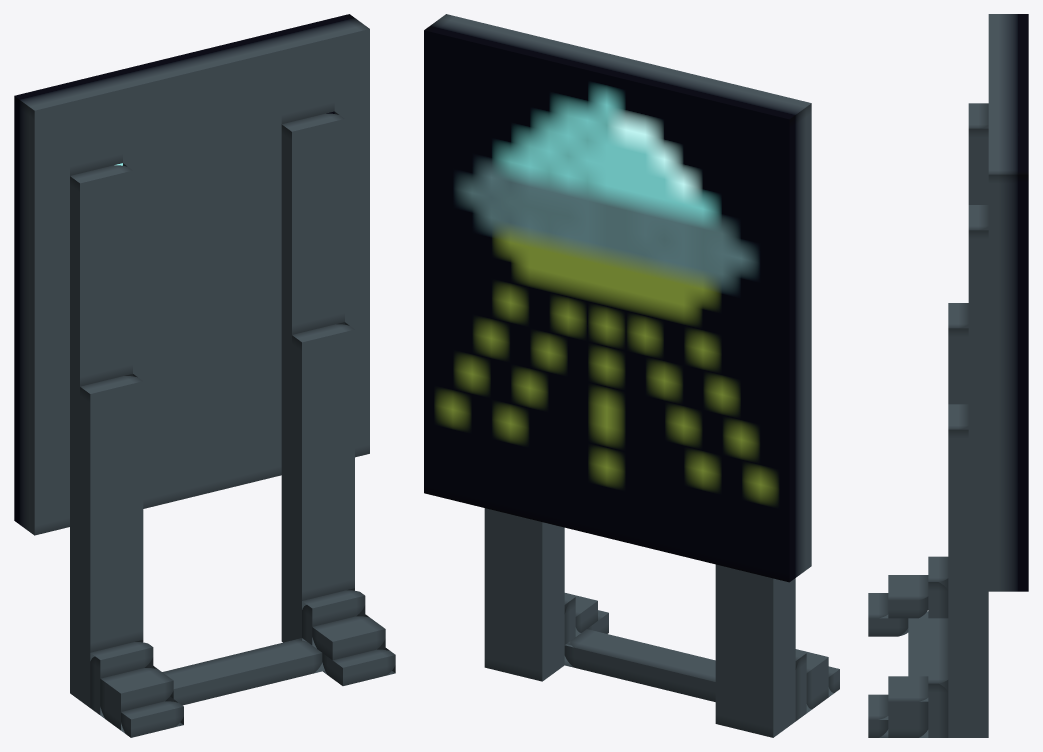
The model's file is rekalama_neo_2.dae.
3 views of the same model, side by side, from view 1: azimuth 30°, elevation 25°; view 2: azimuth 150°, elevation 25°; view 3: azimuth 270°, elevation 25° (orthographic). The views are drawn at different scales.
Visible parts, largest first — view 1: Content; view 2: Content; view 3: Content.
Part boxes in pixels (x1=…): Content: x1=14, y1=14, x2=395, y2=737; Content: x1=424, y1=14, x2=839, y2=737; Content: x1=868, y1=14, x2=1028, y2=737.
Bounding box in the file's own units: 19 × 32 × 8.
Materials: 1 (1 with a texture image).
